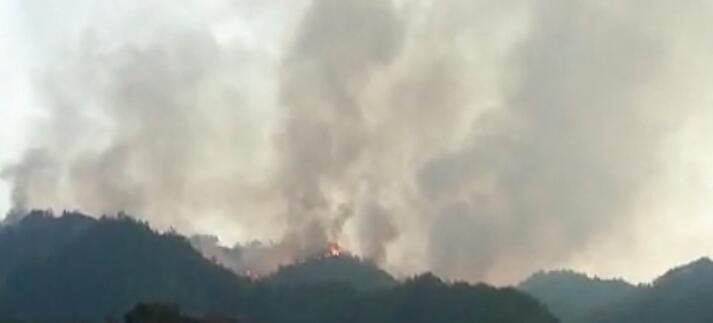fire: (328, 245, 338, 259)
yanwu: (0, 2, 712, 250)
